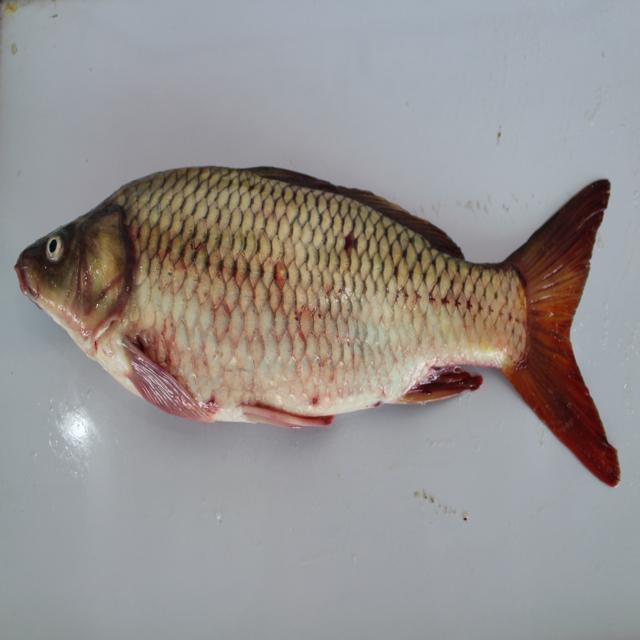CommonCarp: (15, 163, 640, 490)
